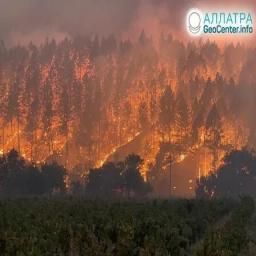Heavy smoke: (0, 0, 255, 76)
Large fire: (0, 33, 254, 199)
